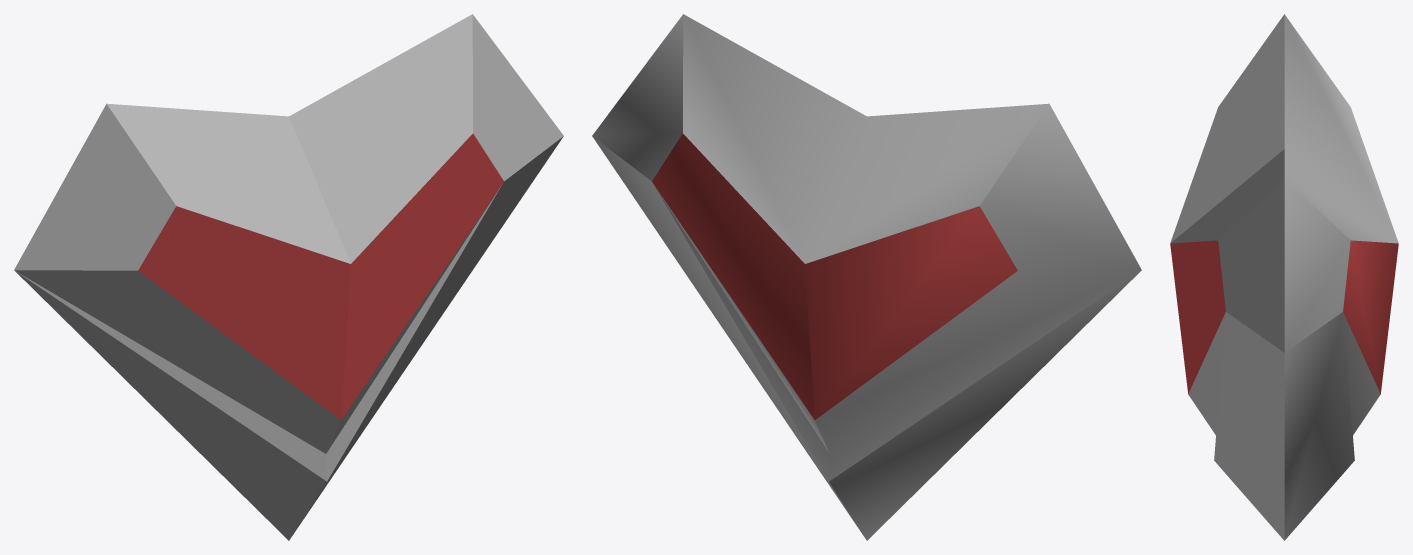
File: HeartsEmbrace.fbx.fbx
The picture shows the model from 3 angles, left to right: view 1: azimuth 30°, elevation 25°; view 2: azimuth 150°, elevation 25°; view 3: azimuth 270°, elevation 25°; orthographic projection. The views are drawn at different scales.
Visible parts, largest first — view 1: Mesh; view 2: Mesh; view 3: Mesh.
Part boxes in pixels (<box>): Mesh: <box>14,14,563,540</box>; Mesh: <box>592,14,1141,540</box>; Mesh: <box>1170,14,1398,540</box>.
Size of the model in its own units: 241 by 202 by 94.
